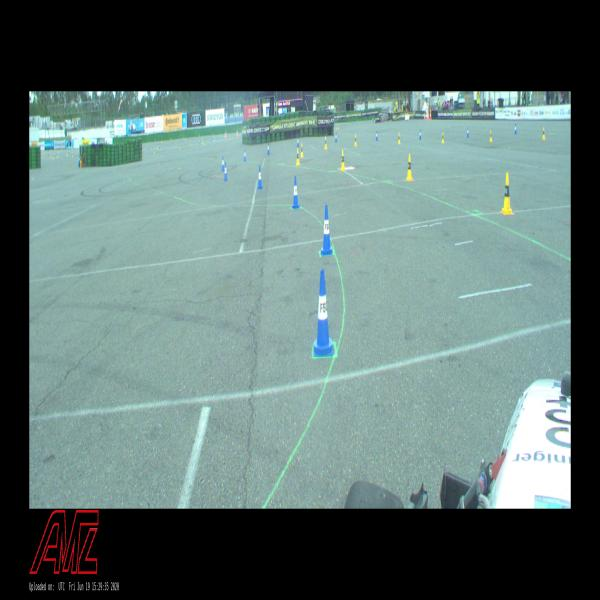blue_cone: (312, 270, 335, 356), (321, 204, 333, 255), (292, 177, 300, 208), (257, 165, 263, 188), (224, 162, 228, 181), (267, 142, 270, 155), (222, 155, 224, 171), (514, 124, 517, 134), (244, 149, 246, 162), (376, 130, 378, 141), (419, 129, 421, 140), (467, 127, 469, 138), (297, 136, 299, 146), (335, 132, 337, 142)
yellow_cone: (502, 172, 512, 215), (406, 154, 413, 181), (340, 150, 345, 171), (296, 148, 300, 166), (300, 143, 303, 158), (542, 127, 545, 140), (354, 134, 357, 146), (441, 132, 444, 144), (325, 136, 327, 149), (398, 133, 400, 144), (490, 130, 492, 141)
